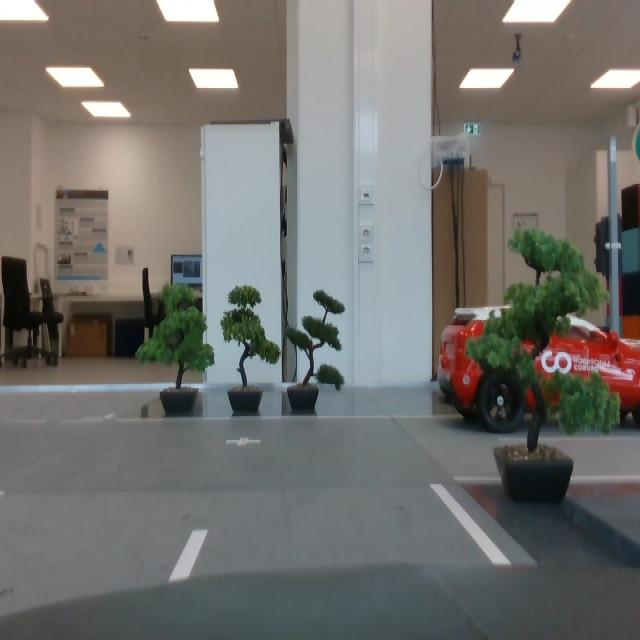car: (438, 305, 640, 433)
potted plant: (468, 229, 621, 503), (135, 281, 215, 413), (220, 284, 281, 412), (285, 289, 346, 410)
traffic light: (594, 220, 623, 279)
